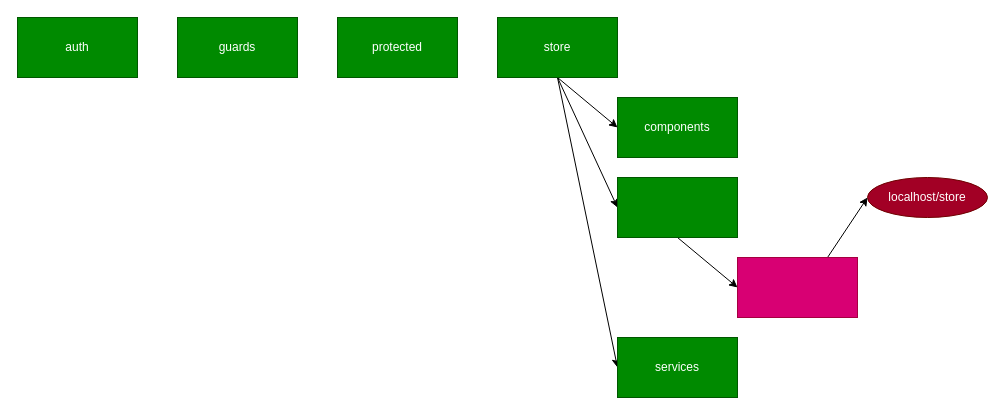
Some shapes in this 1005 by 415 pixel diagram are drawn without their labels. The shapes that lost their labels are listed below. From the top down, each one's centre as x and y in pixels, then its label:
At (x=677, y=207): "pages".
At (x=797, y=287): "ecwid".
